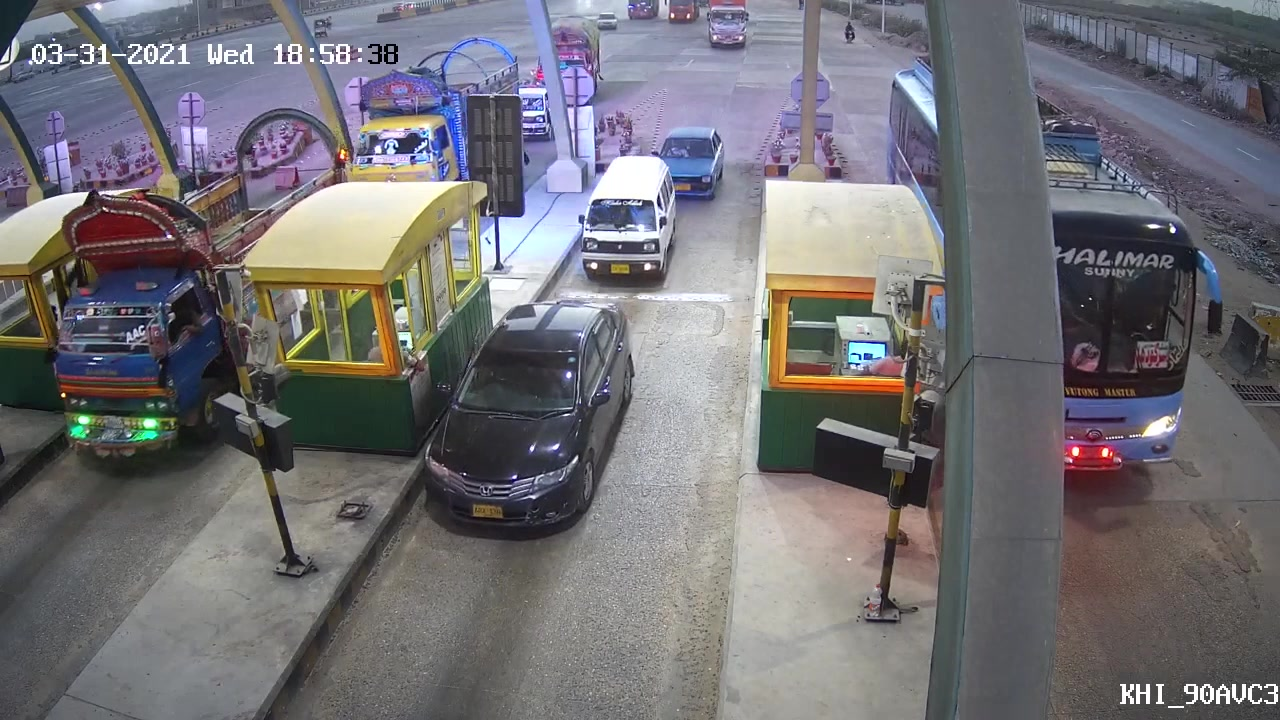F1: (416, 298, 636, 540)
F2: (571, 151, 682, 288)
